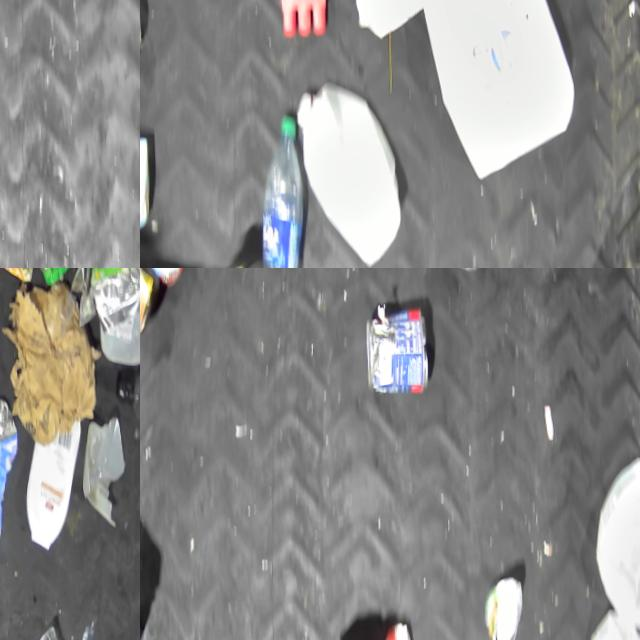can: (363, 298, 432, 400), (479, 567, 525, 640), (140, 268, 186, 291)
milk_jug: (416, 0, 576, 183), (294, 79, 404, 264), (590, 444, 640, 628), (96, 268, 140, 361), (352, 0, 440, 36)
plastic_bottle: (258, 109, 305, 268), (113, 362, 140, 435)
